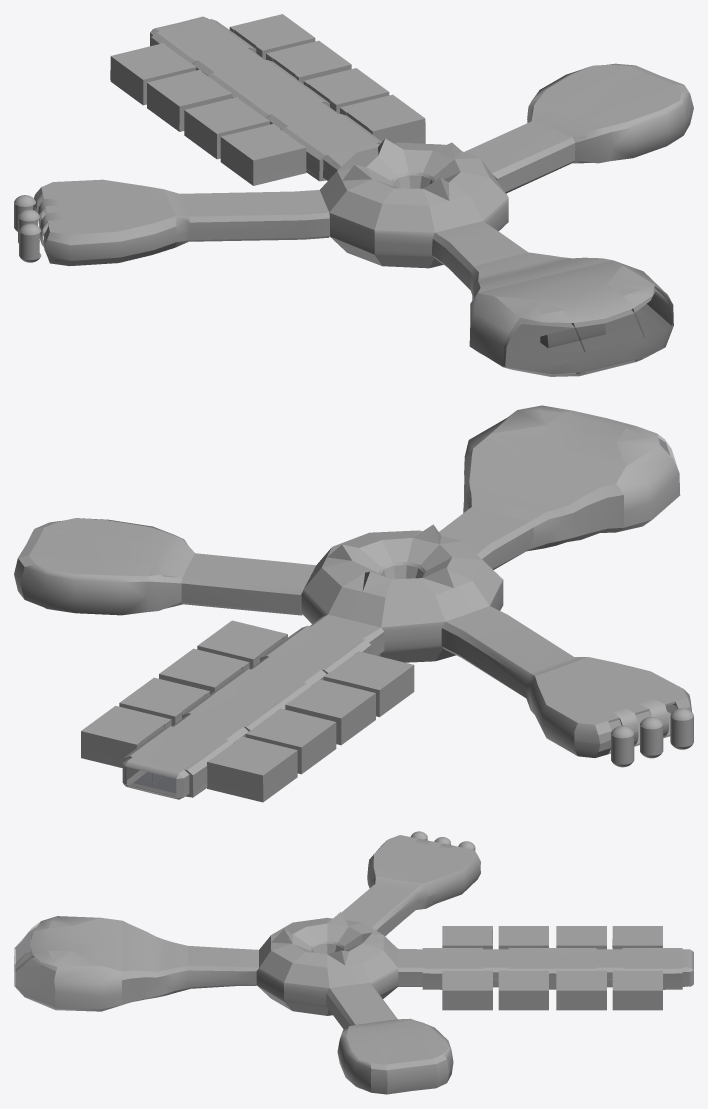
File: SpaceshipV3.0.fbx
3 views of the same model, one above another, from view 1: azimuth 30°, elevation 25°; view 2: azimuth 150°, elevation 25°; view 3: azimuth 270°, elevation 25° (orthographic). The views are drawn at different scales.
Visible parts, largest first — view 1: polySurface412, pCylinder46; view 2: polySurface412, pCylinder44, pCylinder46, pCylinder45; view 3: polySurface412.
Boxes of the visible parts, x1,y1,x2,y2 form: polySurface412: (34, 14, 693, 376); pCylinder46: (19, 223, 41, 262); polySurface412: (14, 405, 692, 802); pCylinder44: (611, 725, 634, 767); pCylinder46: (670, 708, 693, 749); pCylinder45: (640, 717, 663, 758); polySurface412: (14, 835, 693, 1094).
Size of the model in its own units: 28.39 by 3.53 by 33.52.
7 materials, 1 textured.
